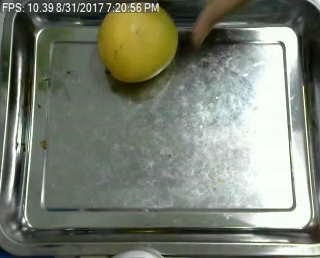Mango: (96, 1, 177, 83)
